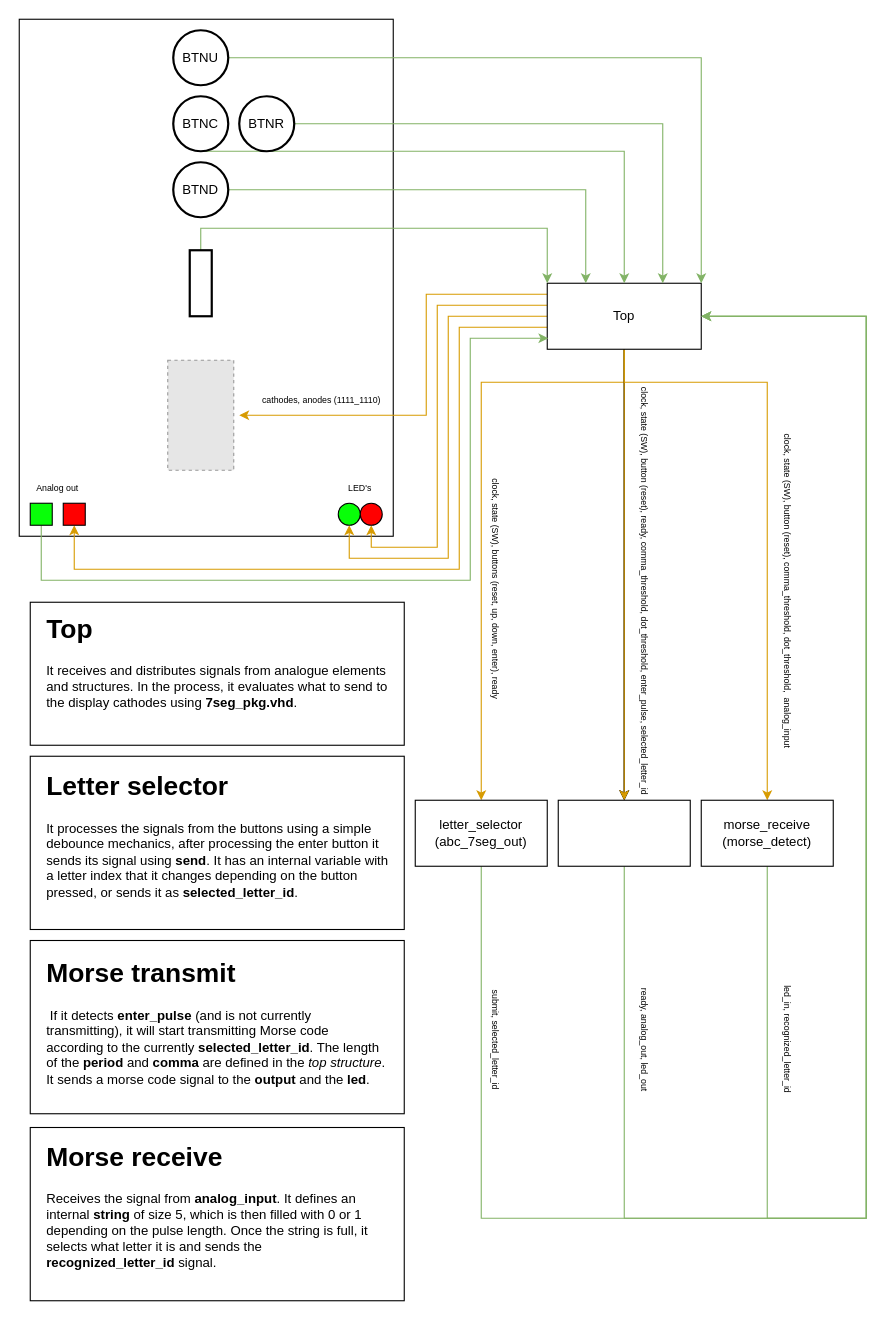
Some shapes in this 894 by 1320 pixel diagram are drawn without their labels. Grey dashed boxes stand in for pictures. Each missing label, with the centre of its shape:
morse_transmit (morse_deliver): (623,832)
SW: (200,283)
